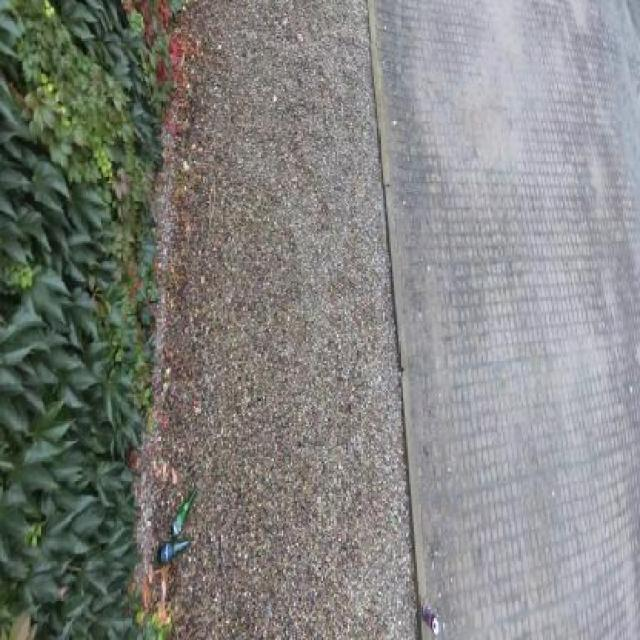Garbage: (170, 485, 199, 540), (158, 537, 191, 564), (422, 603, 439, 634)
